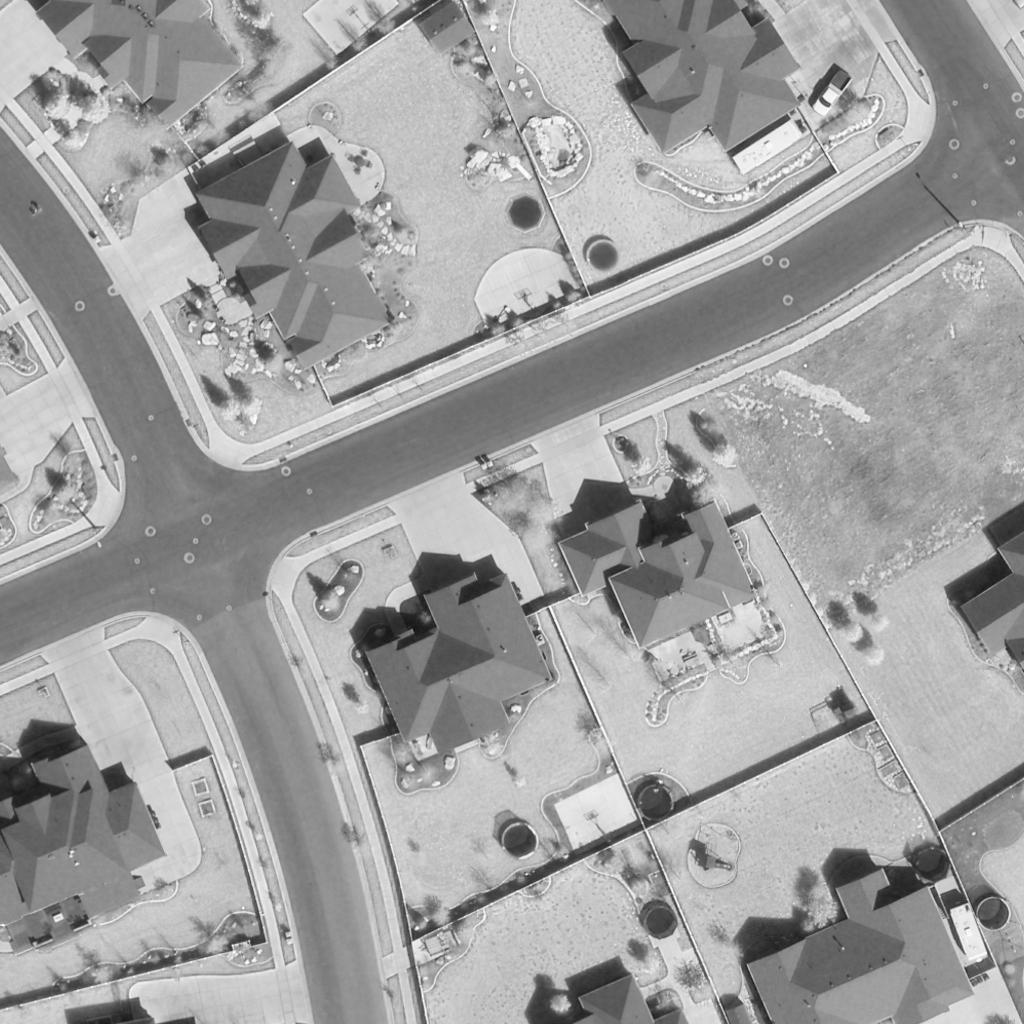vehicle: (730, 119, 804, 177), (947, 901, 989, 965), (811, 70, 853, 118)
